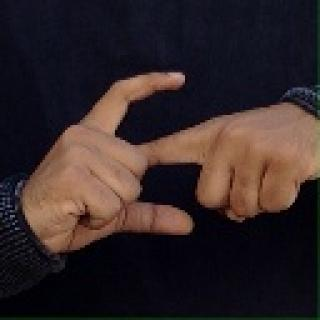E: (28, 67, 317, 257)
